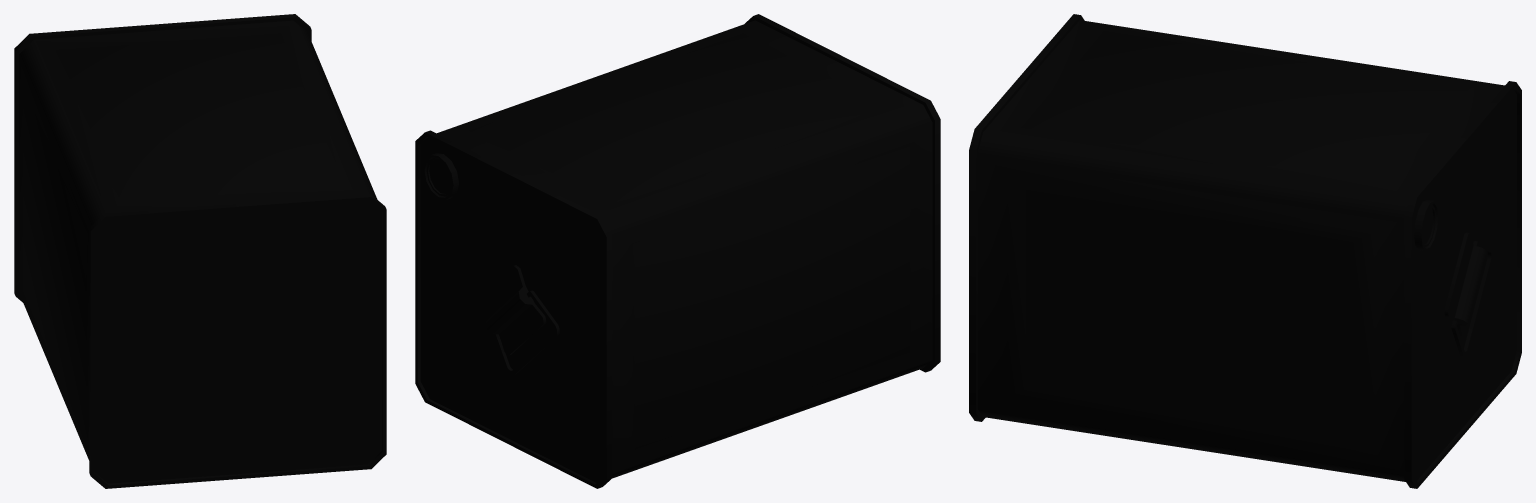
3 views of the same model, side by side, from view 1: azimuth 30°, elevation 25°; view 2: azimuth 150°, elevation 25°; view 3: azimuth 270°, elevation 25° (orthographic). The views are drawn at different scales.
Parts seen in each view (by area): view 1: Joint_0_Object_0; view 2: Joint_0_Object_0; view 3: Joint_0_Object_0.
Part boxes in pixels (left/top/right/bottom): Joint_0_Object_0: left=14, top=14, right=386, bottom=488; Joint_0_Object_0: left=415, top=14, right=940, bottom=488; Joint_0_Object_0: left=969, top=14, right=1521, bottom=488.
Size of the model in its own units: 738 by 513 by 880.
1 material, 1 textured.
